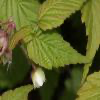Raspberry leaf: (26, 26, 95, 67), (36, 0, 88, 31), (7, 24, 30, 51)
